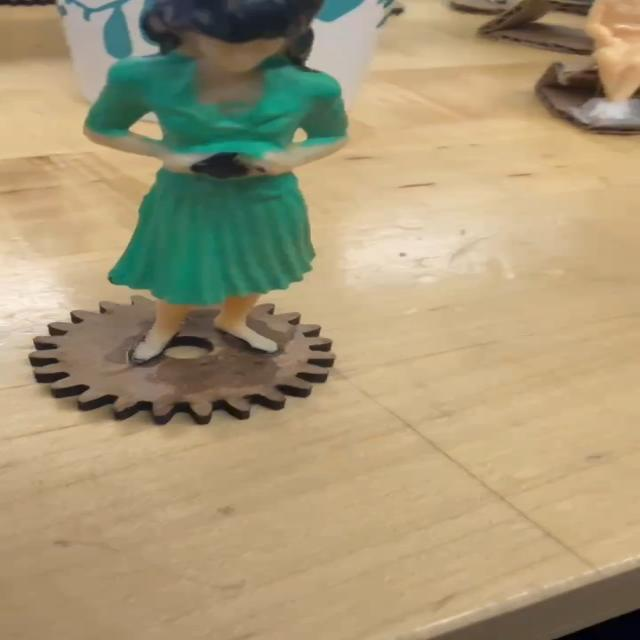Authorized: (67, 0, 416, 376)
